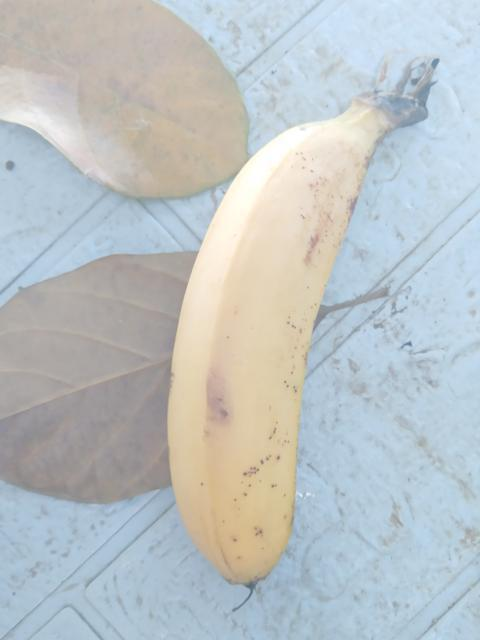ripe: (152, 90, 414, 610)
